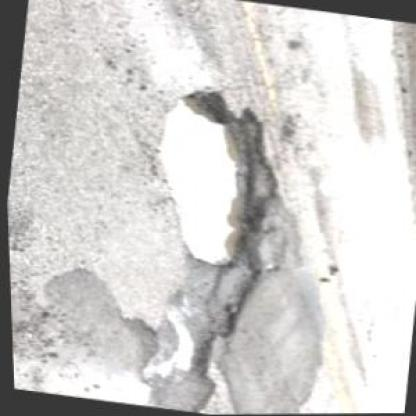pothole: (138, 83, 300, 279)
